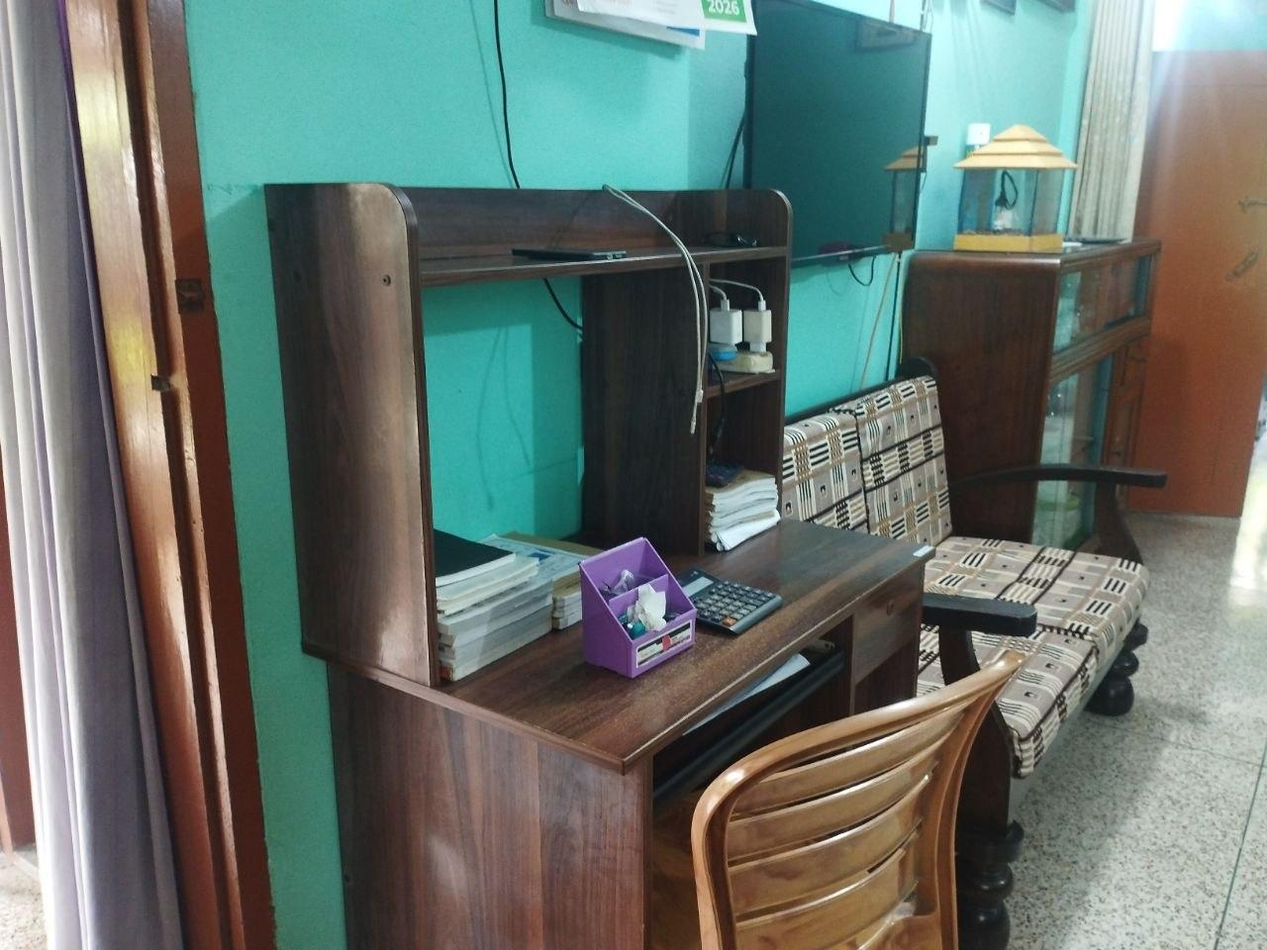Book: (422, 504, 595, 698), (704, 456, 783, 549)
Chair: (686, 651, 1027, 950)
Drawer: (813, 571, 952, 651)
Pen Stand: (581, 510, 700, 688)
Phone: (482, 236, 648, 268)
Table: (248, 175, 950, 950)
